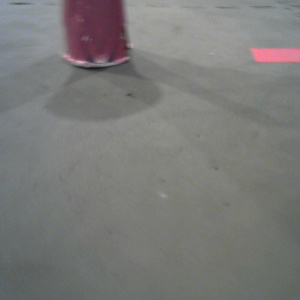middle: (58, 1, 134, 70)
